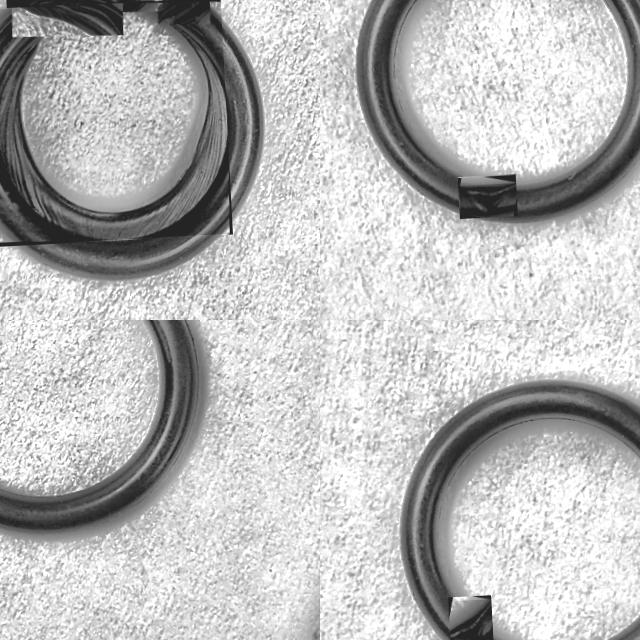切割缺陷: (6, 0, 118, 29), (460, 183, 516, 218), (450, 600, 492, 640), (155, 0, 204, 23)
挤压缺陷: (128, 0, 164, 9)
裂纹: (0, 4, 227, 240)
